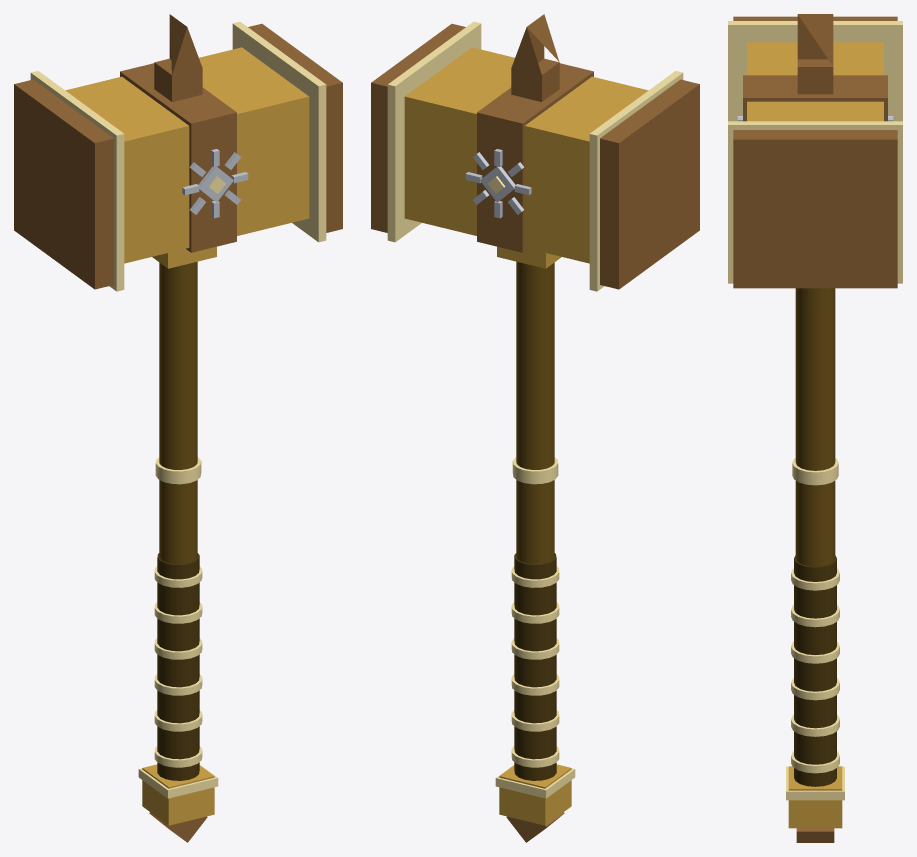
3 views of the same model, side by side, from view 1: azimuth 30°, elevation 25°; view 2: azimuth 150°, elevation 25°; view 3: azimuth 270°, elevation 25° (orthographic).
Parts seen in each view (by area): view 1: quake-maul; view 2: quake-maul; view 3: quake-maul.
Boxes of the visible parts, <box> form: quake-maul: <box>14,14,342,842</box>; quake-maul: <box>371,14,699,842</box>; quake-maul: <box>728,14,902,842</box>.
Size of the model in its own units: 0.3819 by 1.2 by 0.2296.
